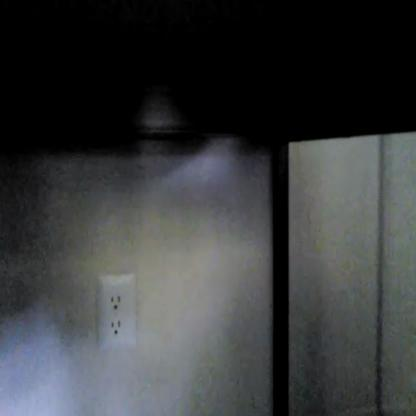OUTLET: (97, 274, 137, 350)
